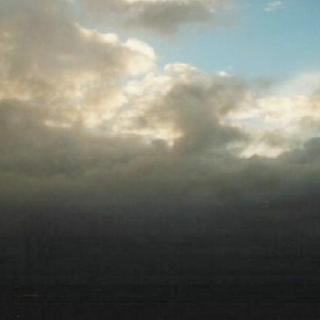Stratocumulus: (0, 0, 320, 219)
